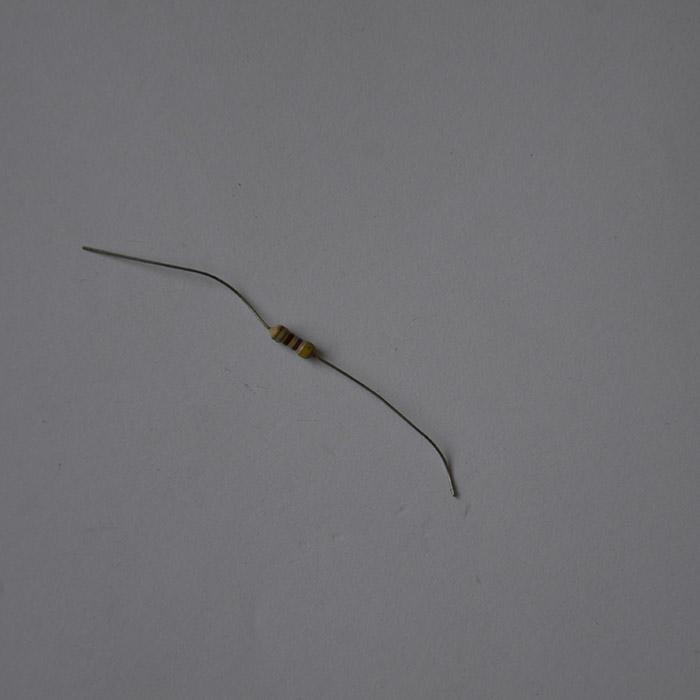resistor: (268, 323, 314, 360)
